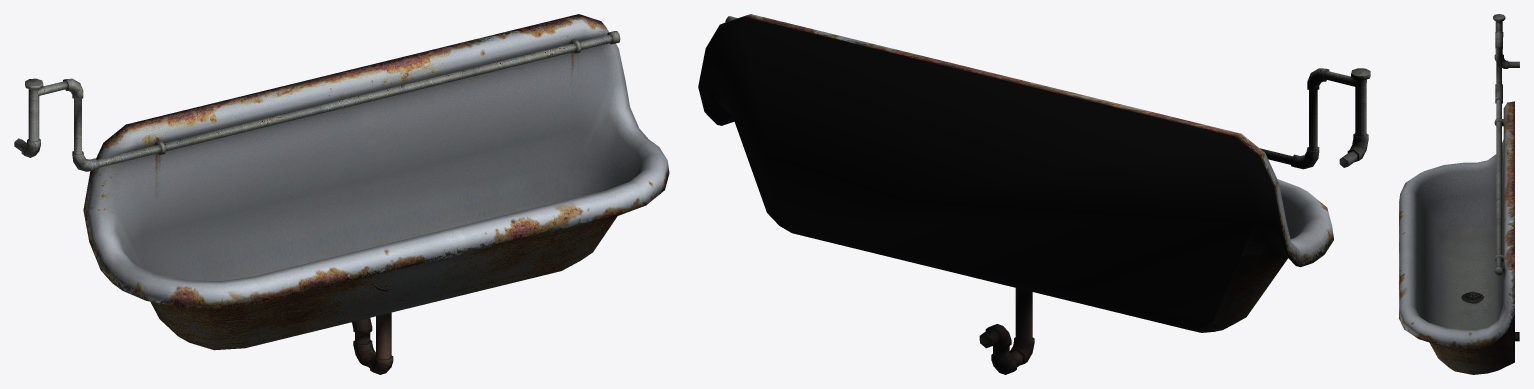
Rendered from urine_trough.obj.
3 renders of one model, left to right at view 1: azimuth 30°, elevation 25°; view 2: azimuth 150°, elevation 25°; view 3: azimuth 270°, elevation 25°, orthographic. The views are drawn at different scales.
Visible parts, largest first — view 1: Model001_5_Material3360_1.0_0.0_0.0; view 2: Model001_5_Material3360_1.0_0.0_0.0; view 3: Model001_5_Material3360_1.0_0.0_0.0.
Part boxes in pixels (bbox=[...]): Model001_5_Material3360_1.0_0.0_0.0: bbox=[14, 14, 669, 374]; Model001_5_Material3360_1.0_0.0_0.0: bbox=[698, 14, 1370, 374]; Model001_5_Material3360_1.0_0.0_0.0: bbox=[1399, 14, 1519, 374].
Bounding box in the file's own units: 2.02 × 1.15 × 0.5209.
